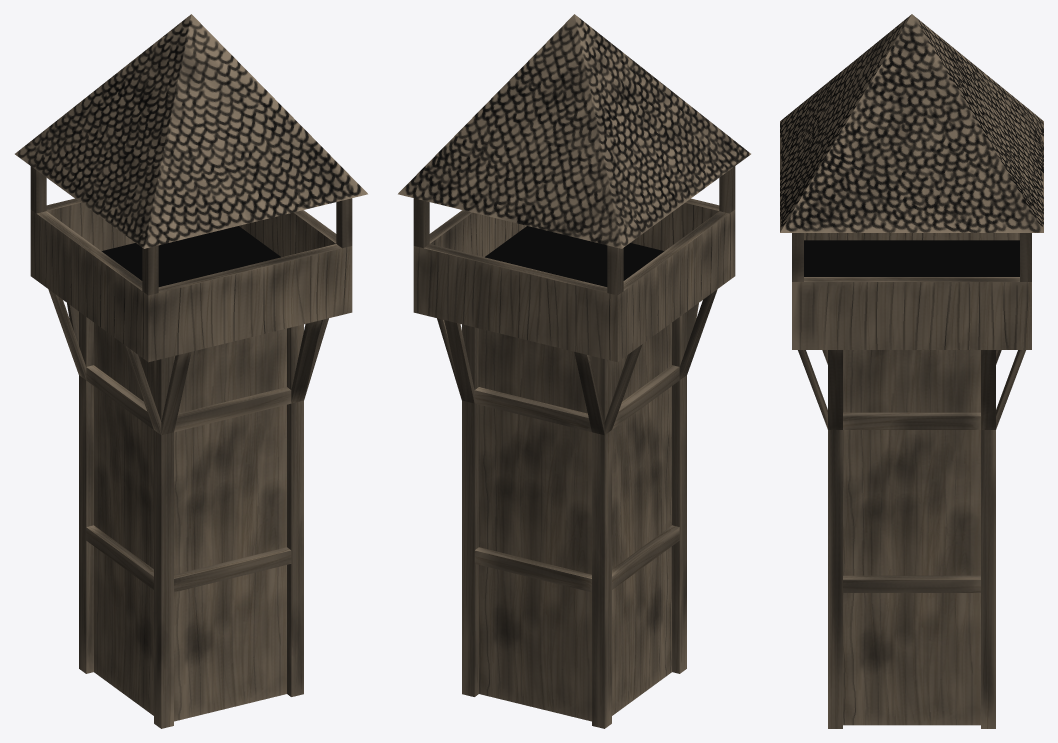
File: tour_observation_age1.obj
3 renders of one model, left to right at view 1: azimuth 30°, elevation 25°; view 2: azimuth 150°, elevation 25°; view 3: azimuth 270°, elevation 25°, orthographic.
Visible parts, largest first — view 1: Plane_Plane.001; view 2: Plane_Plane.001; view 3: Plane_Plane.001.
Boxes of the visible parts, x1,y1,x2,y2 form: Plane_Plane.001: [15, 14, 367, 728]; Plane_Plane.001: [398, 14, 750, 728]; Plane_Plane.001: [780, 14, 1043, 728].
Bounding box in the file's own units: 1.76 × 5 × 1.76.
